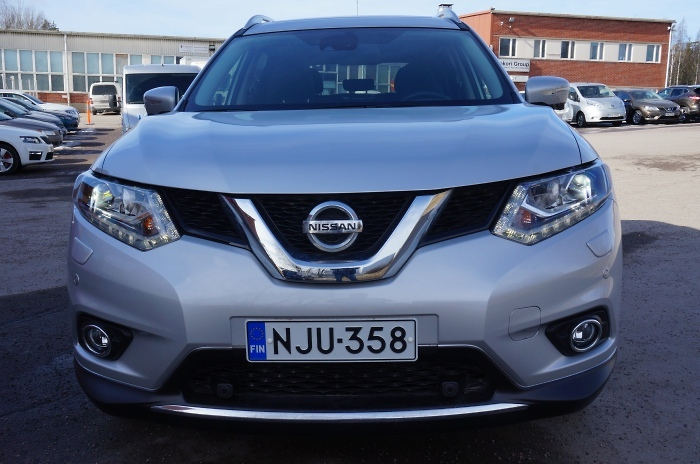license: (245, 319, 412, 366)
